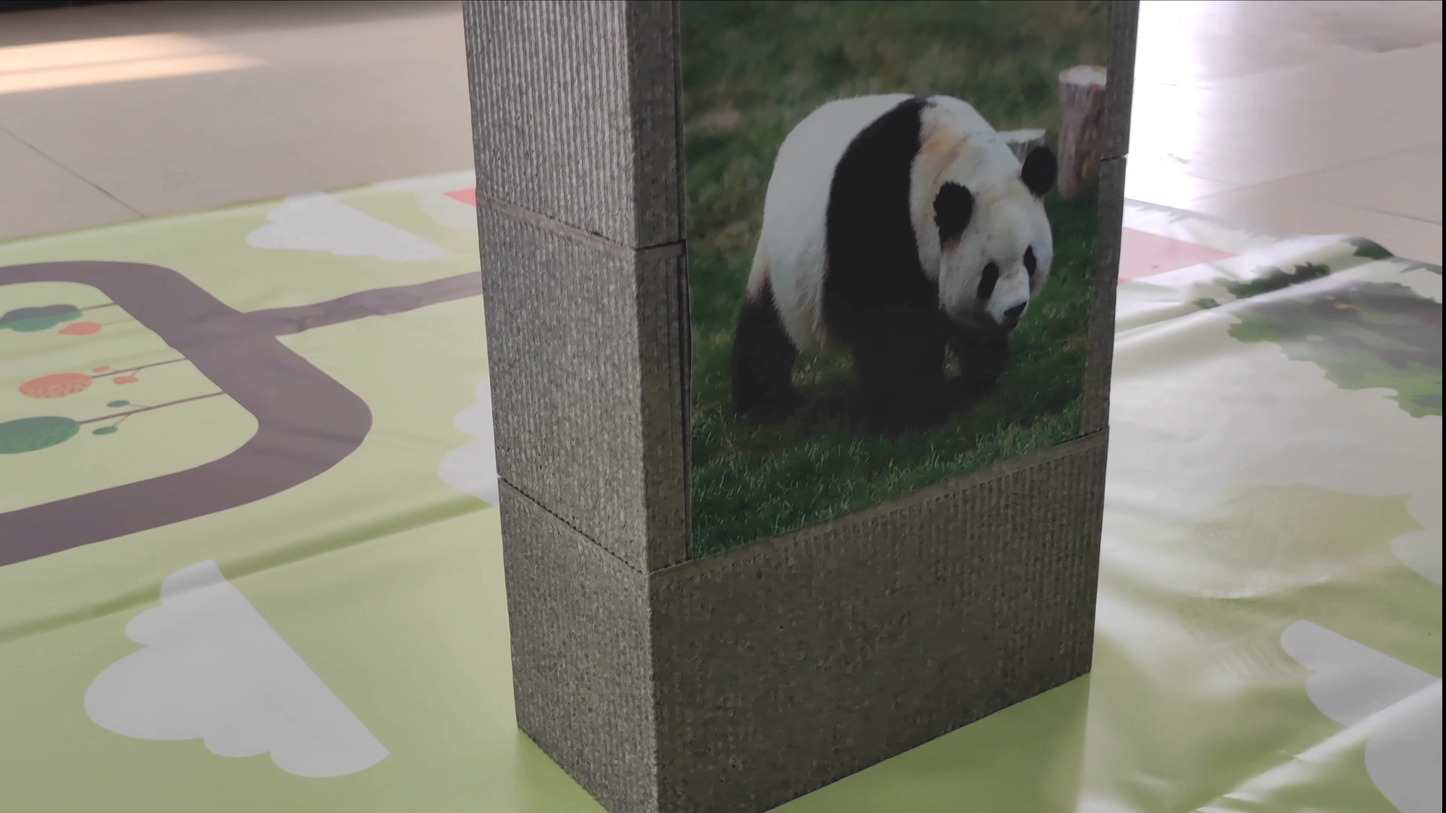panda: (692, 32, 1083, 451)
